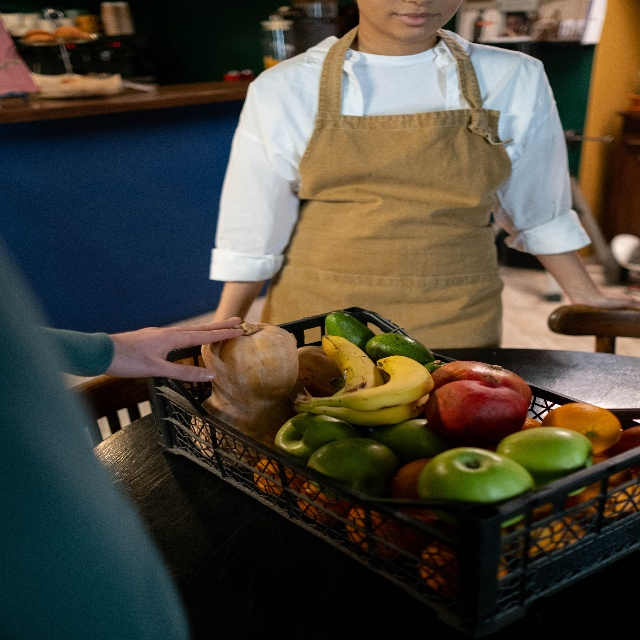Sin_guantes: (101, 312, 244, 383), (595, 279, 640, 311)
